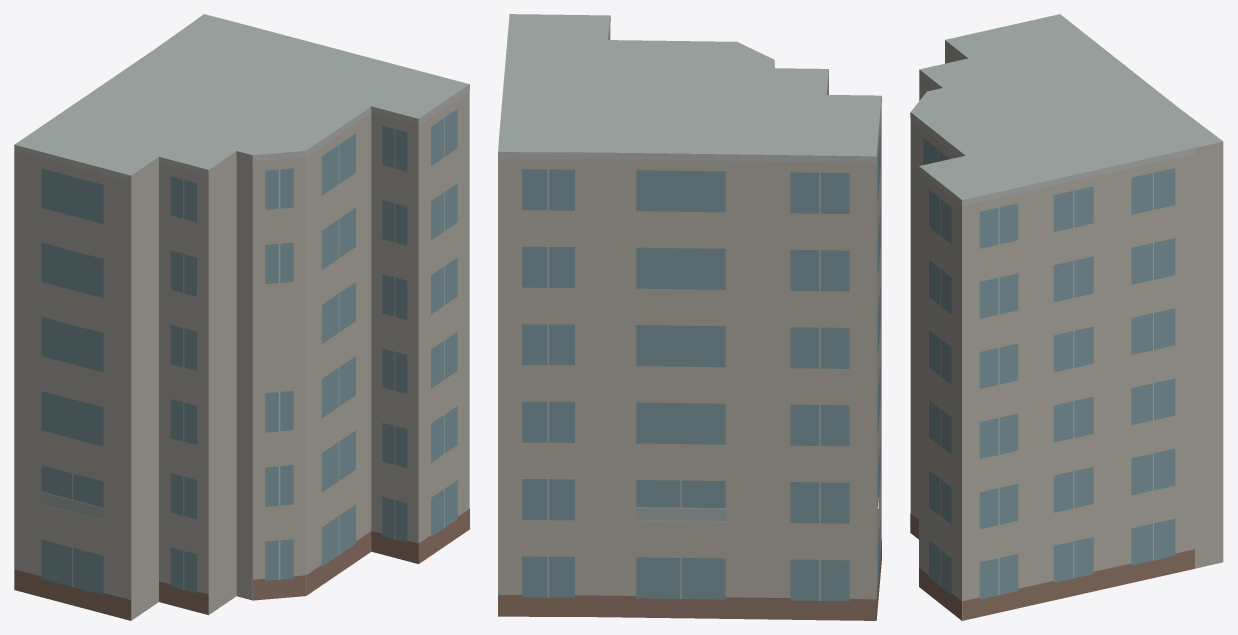
The model's file is survey-upis-32753051.glb.
3 views of the same model, side by side, from view 1: azimuth 30°, elevation 25°; view 2: azimuth 150°, elevation 25°; view 3: azimuth 270°, elevation 25° (orthographic). The views are drawn at different scales.
Visible parts, largest first — view 1: survey-upis-32753051.tmp; view 2: survey-upis-32753051.tmp; view 3: survey-upis-32753051.tmp.
Part boxes in pixels (box(x1,y1,x2,y2)): survey-upis-32753051.tmp: box(14, 14, 469, 620); survey-upis-32753051.tmp: box(498, 14, 881, 620); survey-upis-32753051.tmp: box(910, 14, 1223, 620).
Size of the model in its own units: 16.4 by 17.28 by 11.66.
